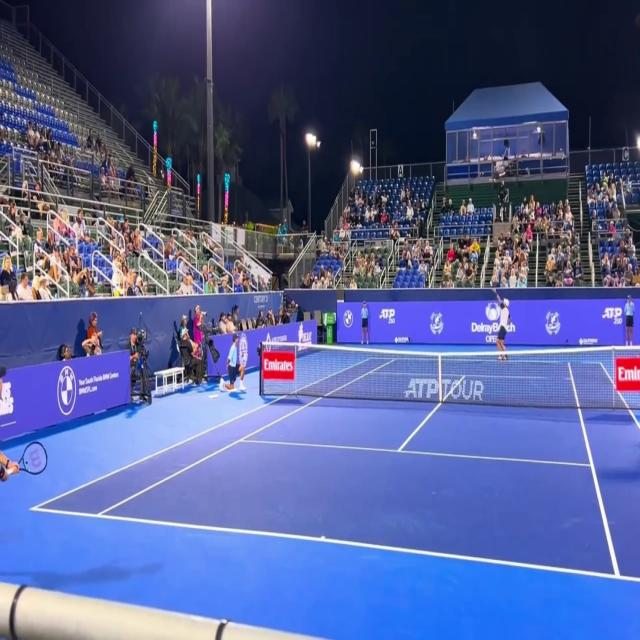tennisBall: (488, 277, 495, 288)
